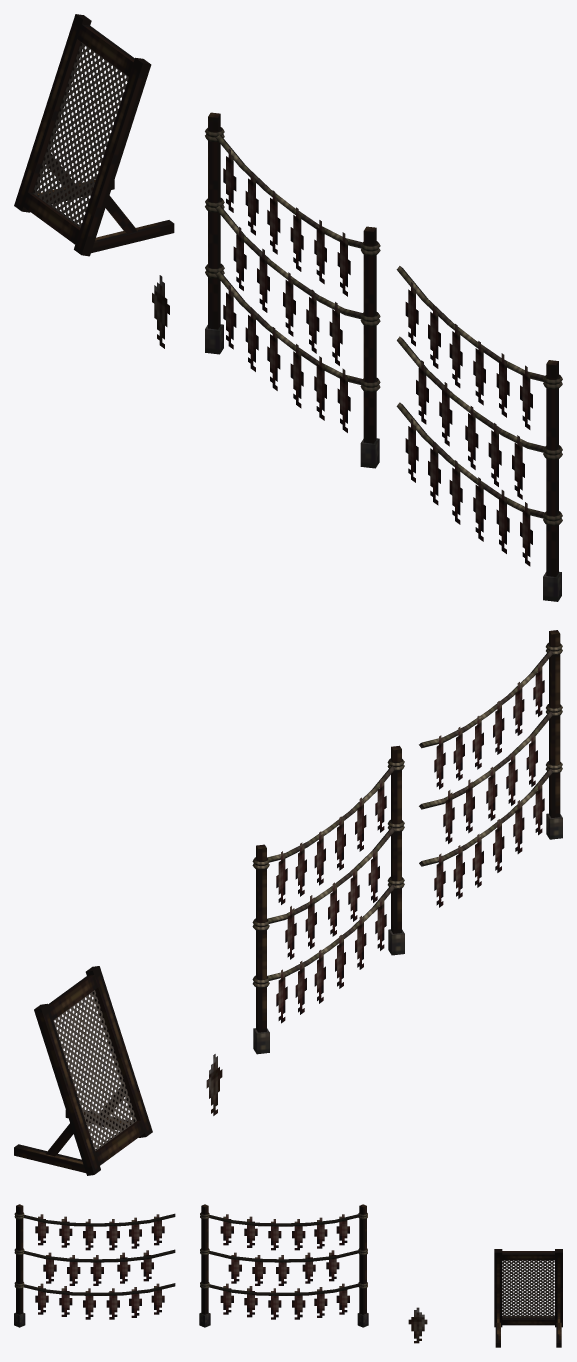
Rendered from EnvObjMD_DriedFood_A.FBX.
The picture shows the model from 3 angles, top to bottom: view 1: azimuth 30°, elevation 25°; view 2: azimuth 150°, elevation 25°; view 3: azimuth 270°, elevation 25°; orthographic projection. The views are drawn at different scales.
Parts seen in each view (by area): view 1: EnvObjMD_DriedFood_A_Pole, EnvObjMD_DriedFood_A, EnvObjMD_DriedFood_A_Pole_Doc, EnvObjMD_DriedFood_A_Fish_A; view 2: EnvObjMD_DriedFood_A_Pole, EnvObjMD_DriedFood_A, EnvObjMD_DriedFood_A_Pole_Doc; view 3: EnvObjMD_DriedFood_A_Pole, EnvObjMD_DriedFood_A_Pole_Doc, EnvObjMD_DriedFood_A, EnvObjMD_DriedFood_A_Fish_A.
Boxes of the visible parts, x1,y1,x2,y2 form: EnvObjMD_DriedFood_A_Pole: (205,112,380,468); EnvObjMD_DriedFood_A: (14,14,174,256); EnvObjMD_DriedFood_A_Pole_Doc: (396,266,562,601); EnvObjMD_DriedFood_A_Fish_A: (152,275,169,348); EnvObjMD_DriedFood_A_Pole: (252,745,404,1054); EnvObjMD_DriedFood_A: (14,966,152,1175); EnvObjMD_DriedFood_A_Pole_Doc: (419,630,562,907); EnvObjMD_DriedFood_A_Pole: (199,1204,368,1327); EnvObjMD_DriedFood_A_Pole_Doc: (14,1204,175,1327); EnvObjMD_DriedFood_A: (494,1249,562,1347); EnvObjMD_DriedFood_A_Fish_A: (408,1307,427,1343).
Bounding box in the file's own units: 111 × 288 × 1041.
Materials: 2 (2 with a texture image).
